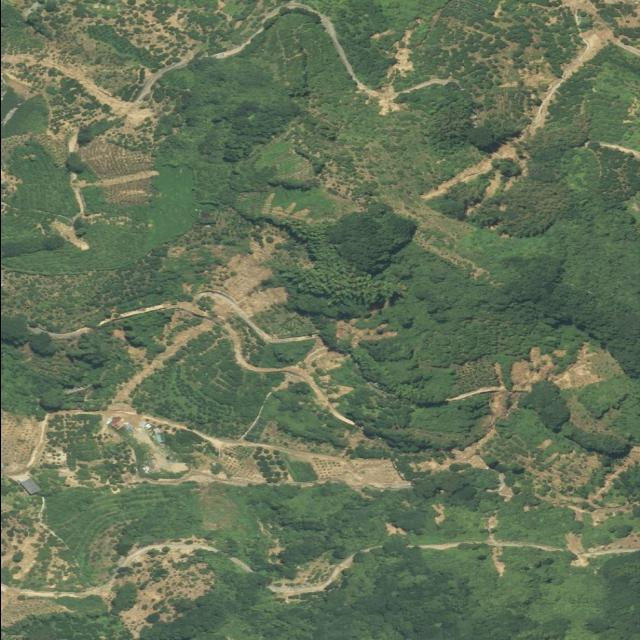landslide: (212, 234, 287, 316)
